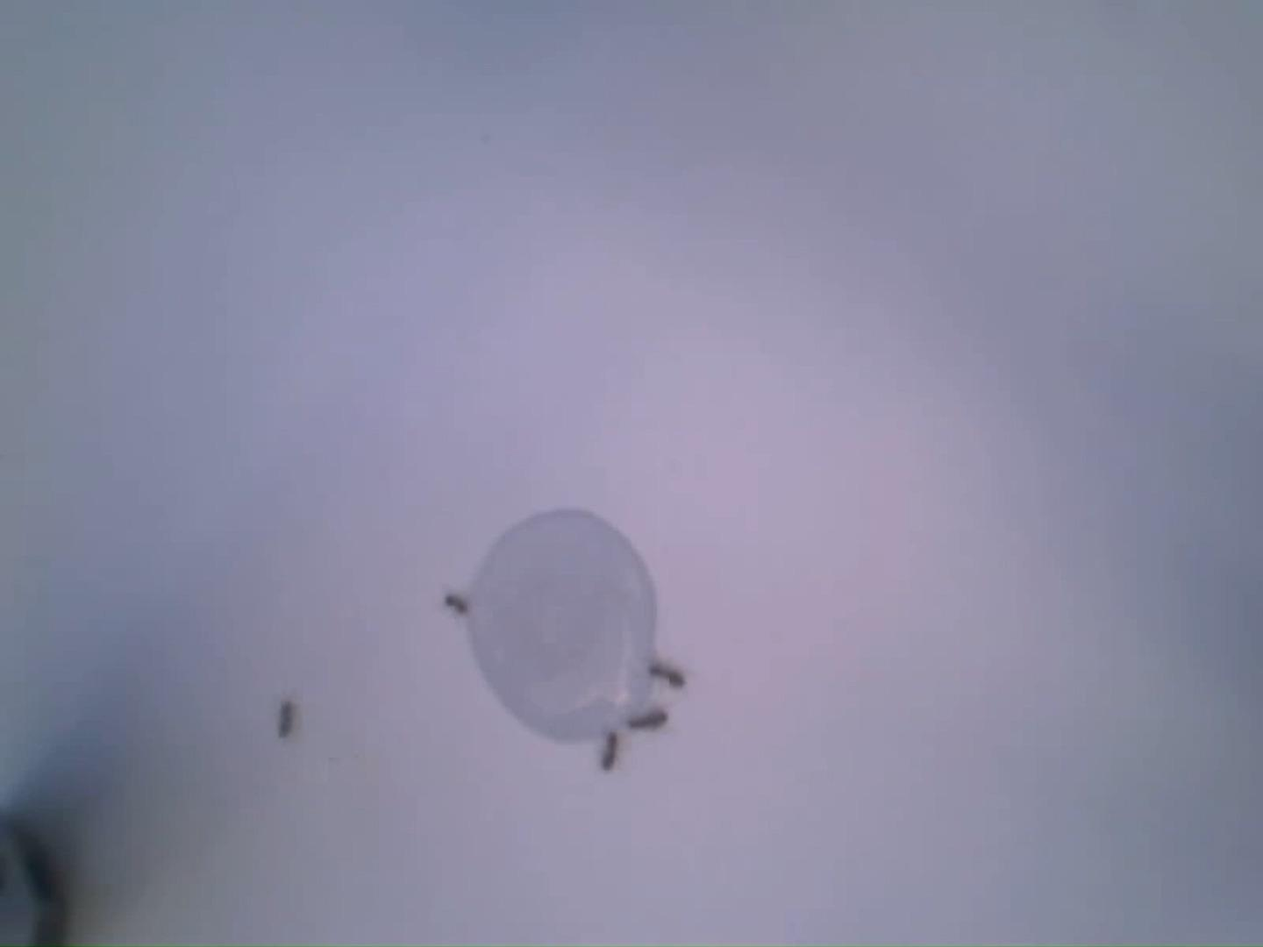Ant: (631, 706, 670, 730), (650, 661, 687, 686), (602, 731, 621, 771), (280, 698, 299, 737), (446, 593, 471, 614)
